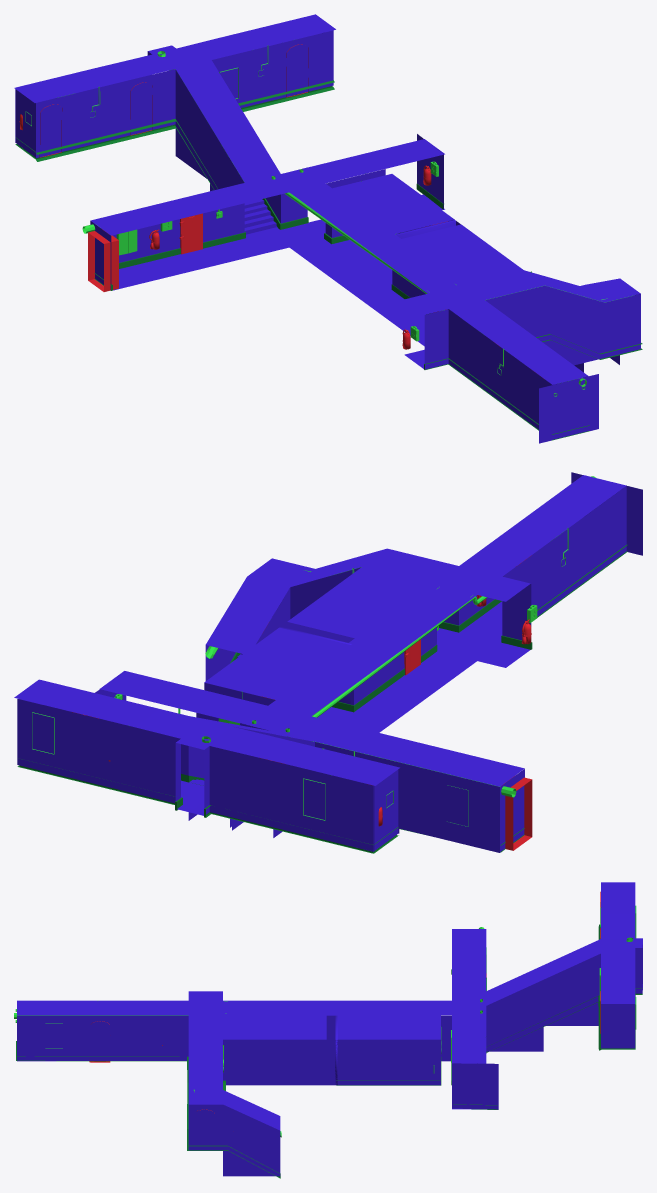
File: SM_Gangenstelsel.fbx
The picture shows the model from 3 angles, top to bottom: view 1: azimuth 30°, elevation 25°; view 2: azimuth 150°, elevation 25°; view 3: azimuth 270°, elevation 25°; orthographic projection. The views are drawn at different scales.
Visible parts, largest first — view 1: MurenUV_Done, plafond_UvDone, GrondIUV_done, Cube.006, automaat_UV.001, GrondIUV_done.001, deuren_UV.001; view 2: plafond_UvDone, MurenUV_Done, GrondIUV_done, Cube.006, automaat_UV.001, TubeSmallUV; view 3: MurenUV_Done, plafond_UvDone, Cube.006.
Part boxes in pixels (x1,y1,x2,y2): MurenUV_Done: (15,30,640,443); plafond_UvDone: (14,14,640,384); GrondIUV_done: (22,125,444,368); Cube.006: (15,80,642,440); automaat_UV.001: (88,221,447,291); GrondIUV_done.001: (244,199,279,237); deuren_UV.001: (179,213,202,254); plafond_UvDone: (14,475,626,786); MurenUV_Done: (17,472,642,852); GrondIUV_done: (177,601,530,851); Cube.006: (17,544,627,853); automaat_UV.001: (262,696,532,850); TubeSmallUV: (285,595,487,737); MurenUV_Done: (17,945,642,1176); plafond_UvDone: (17,882,642,1130); Cube.006: (16,924,642,1178).
Bounding box in the file's own units: 1587 × 744 × 2748.
